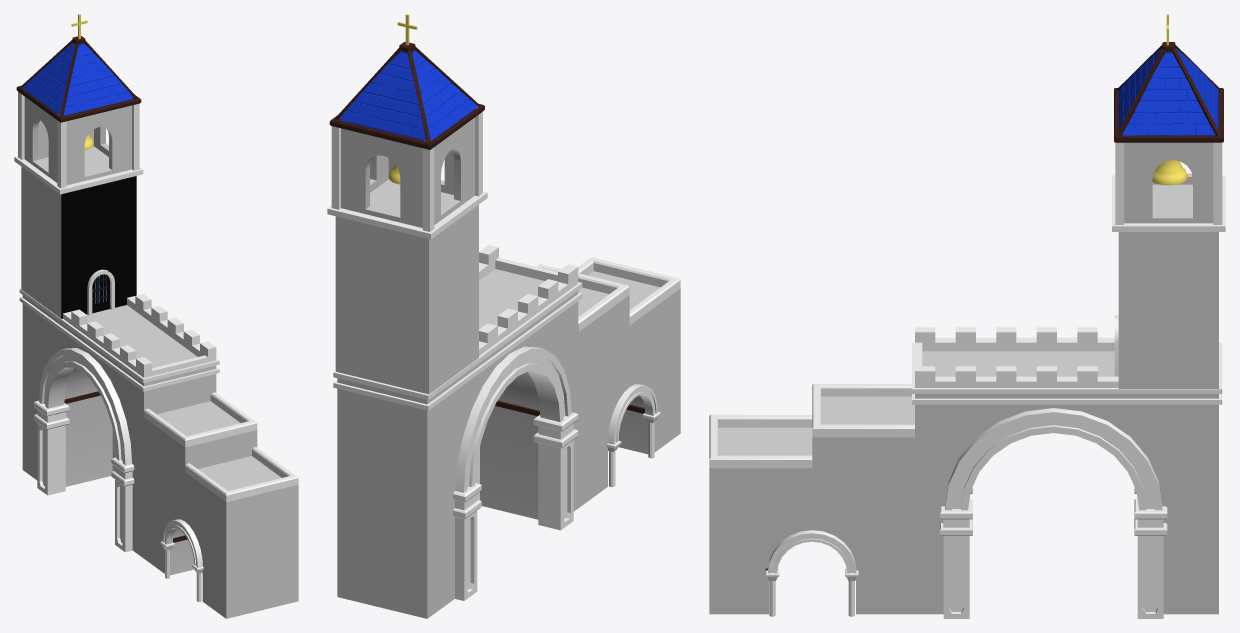
Rendered from tower_gates.FBX.
3 renders of one model, left to right at view 1: azimuth 30°, elevation 25°; view 2: azimuth 150°, elevation 25°; view 3: azimuth 270°, elevation 25°, orthographic. The views are drawn at different scales.
Visible parts, largest first — view 1: tower_gates; view 2: tower_gates; view 3: tower_gates.
Part boxes in pixels (x1,y1,x2,y2): tower_gates: (14,14,298,618); tower_gates: (327,14,680,618); tower_gates: (709,14,1225,618).
Size of the model in its own units: 645 by 3097 by 2508.
